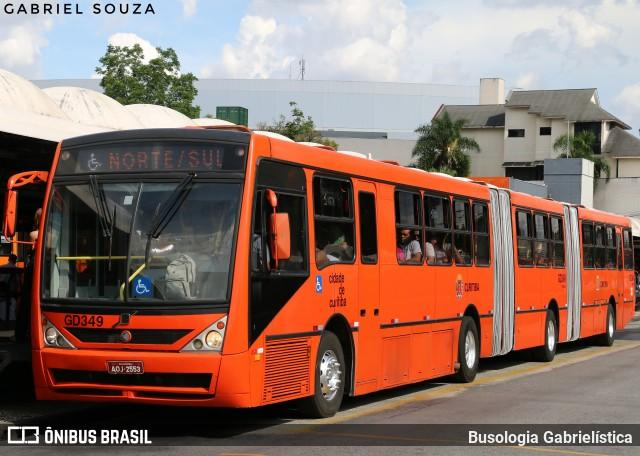NORTE SUL: (104, 146, 228, 172)
